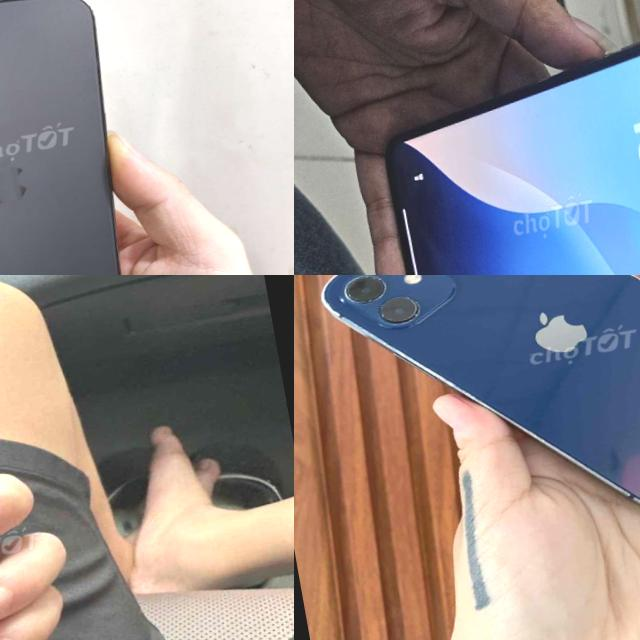scratch: (463, 275, 640, 333), (346, 275, 438, 337), (310, 275, 474, 301)
